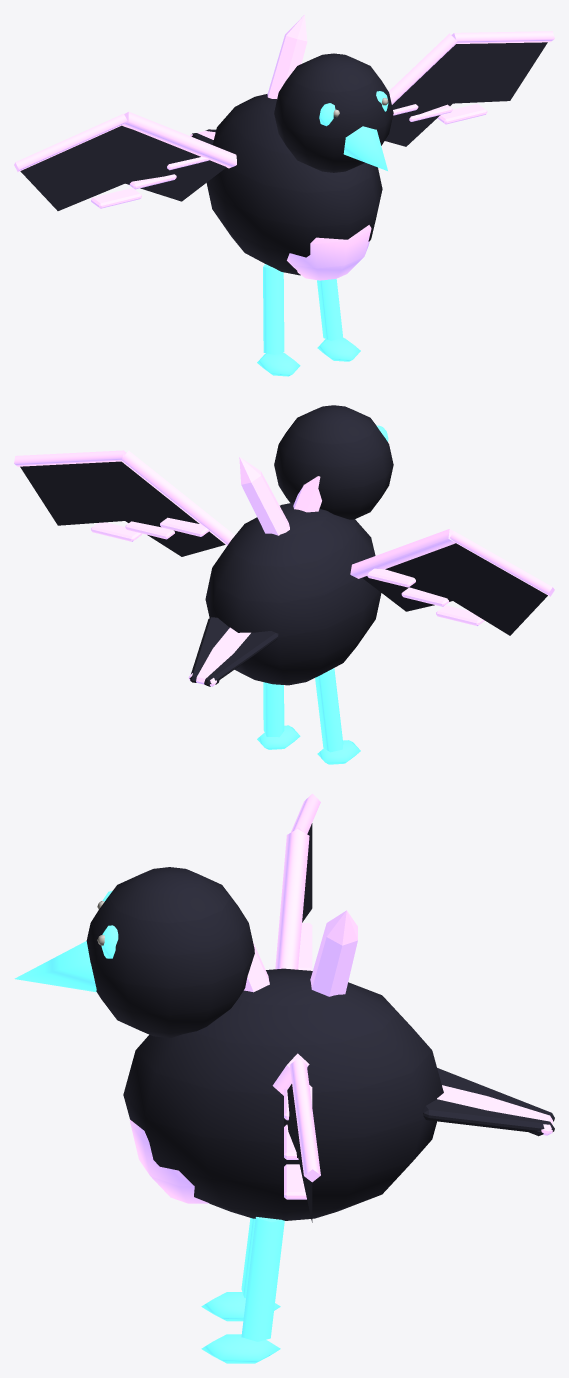
The model's file is monster_crystal_raven.glb.
3 renders of one model, top to bottom at view 1: azimuth 30°, elevation 25°; view 2: azimuth 150°, elevation 25°; view 3: azimuth 270°, elevation 25°, orthographic. The views are drawn at different scales.
Parts seen in each view (by area): view 1: body_t0_bob2_palette, wingl_t0_palette, wingr_t0_palette, wingl_t0_crystal_violet, body_t0_bob2_crystal_violet, wingr_t0_crystal_violet, legl_t0_crystal, legr_t0_crystal, body_t0_bob2_crystal; view 2: body_t0_bob2_palette, wingr_t0_palette, wingl_t0_palette, wingr_t0_crystal_violet, wingl_t0_crystal_violet, body_t0_bob2_crystal_violet, legl_t0_crystal, tail_t0_palette, legr_t0_crystal, tail_t0_crystal_violet; view 3: body_t0_bob2_palette, legr_t0_crystal, body_t0_bob2_crystal_violet, wingl_t0_crystal_violet, wingr_t0_crystal_violet, tail_t0_palette, body_t0_bob2_crystal, tail_t0_crystal_violet, legl_t0_crystal, wingr_t0_palette.
Part boxes in pixels (x1=…): body_t0_bob2_palette: x1=206, y1=53, x2=393, y2=275; wingl_t0_palette: x1=20, y1=125, x2=226, y2=210; wingr_t0_palette: x1=385, y1=42, x2=547, y2=146; wingl_t0_crystal_violet: x1=14, y1=111, x2=236, y2=208; body_t0_bob2_crystal_violet: x1=267, y1=14, x2=371, y2=280; wingr_t0_crystal_violet: x1=388, y1=31, x2=554, y2=124; legl_t0_crystal: x1=257, y1=264, x2=300, y2=376; legr_t0_crystal: x1=317, y1=279, x2=360, y2=361; body_t0_bob2_crystal: x1=319, y1=91, x2=388, y2=170; body_t0_bob2_palette: x1=205, y1=405, x2=393, y2=685; wingr_t0_palette: x1=20, y1=461, x2=225, y2=556; wingl_t0_palette: x1=362, y1=543, x2=547, y2=635; wingr_t0_crystal_violet: x1=14, y1=450, x2=234, y2=545; wingl_t0_crystal_violet: x1=350, y1=529, x2=554, y2=625; body_t0_bob2_crystal_violet: x1=239, y1=457, x2=321, y2=535; legl_t0_crystal: x1=315, y1=668, x2=360, y2=764; tail_t0_palette: x1=189, y1=617, x2=278, y2=686; legr_t0_crystal: x1=257, y1=682, x2=300, y2=749; tail_t0_crystal_violet: x1=188, y1=627, x2=250, y2=686; body_t0_bob2_palette: x1=86, y1=867, x2=443, y2=1220; legr_t0_crystal: x1=201, y1=1217, x2=284, y2=1363; body_t0_bob2_crystal_violet: x1=129, y1=910, x2=357, y2=1203; wingl_t0_crystal_violet: x1=275, y1=793, x2=320, y2=970; wingr_t0_crystal_violet: x1=272, y1=1053, x2=320, y2=1199; tail_t0_palette: x1=423, y1=1068, x2=554, y2=1136; body_t0_bob2_crystal: x1=14, y1=891, x2=118, y2=992; tail_t0_crystal_violet: x1=437, y1=1085, x2=552, y2=1135; legl_t0_crystal: x1=201, y1=1218, x2=280, y2=1321; wingr_t0_palette: x1=284, y1=1084, x2=312, y2=1222.
Size of the model in its own units: 0.6229 by 0.358 by 0.379.
